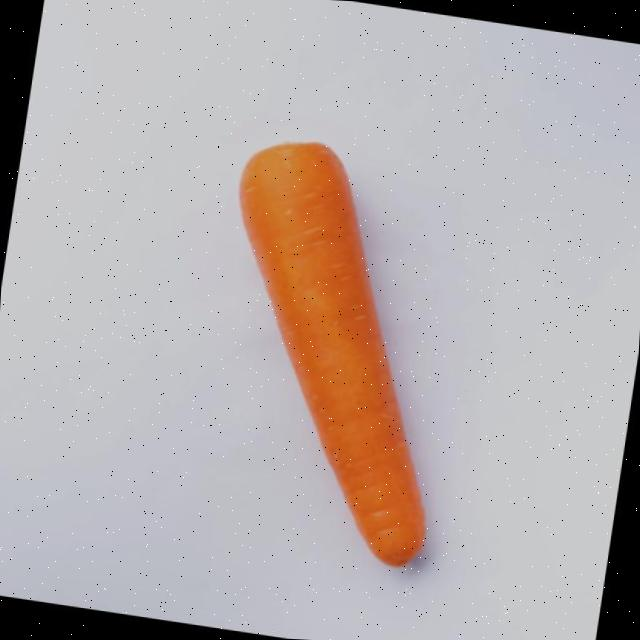carrot: (240, 143, 425, 565)
